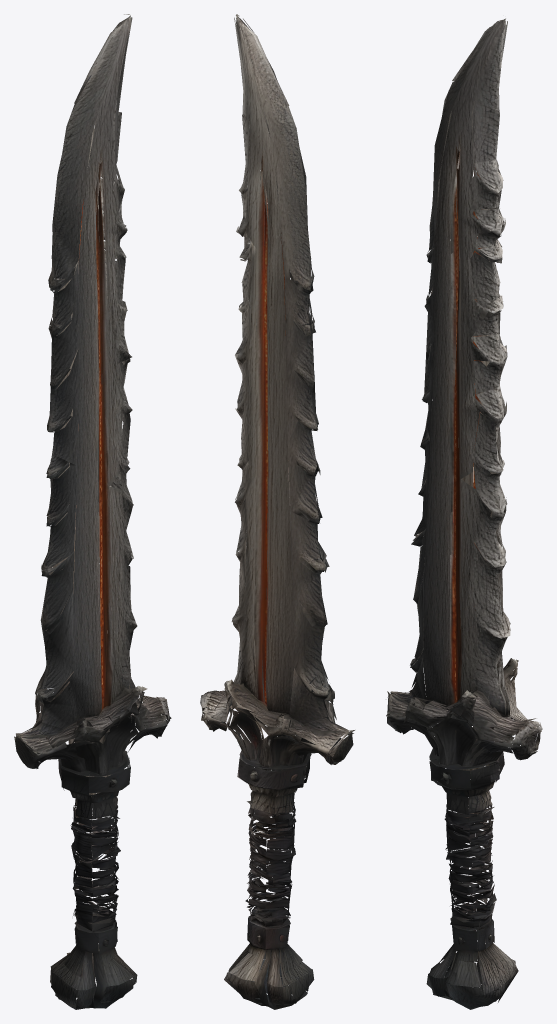
File: Kilic.fbx
3 views of the same model, side by side, from view 1: azimuth 30°, elevation 25°; view 2: azimuth 150°, elevation 25°; view 3: azimuth 330°, elevation 25° (orthographic).
Parts seen in each view (by area): view 1: Silah_Kilic; view 2: Silah_Kilic; view 3: Silah_Kilic.
Boxes of the visible parts, <box> form: Silah_Kilic: <box>14,14,171,1009</box>; Silah_Kilic: <box>200,14,354,1009</box>; Silah_Kilic: <box>386,18,542,1009</box>.
Bounding box in the file's own units: 0.1361 × 0.85 × 0.085.
1 material, 1 textured.
